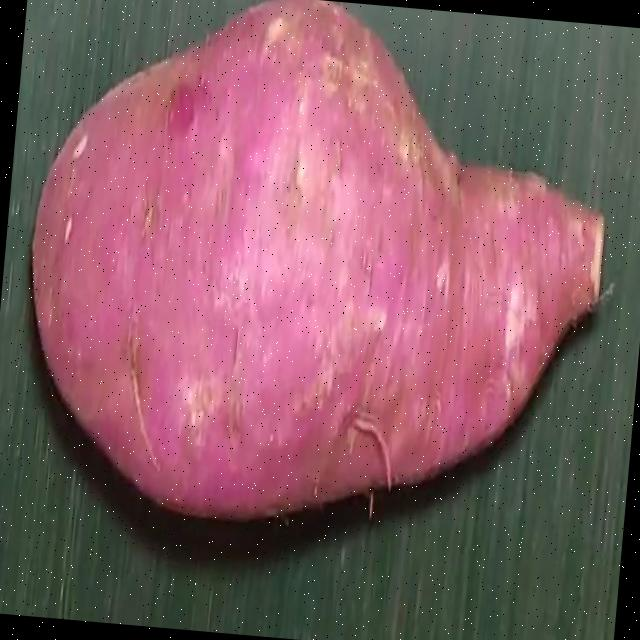Sweet Potato: (31, 0, 606, 522)
